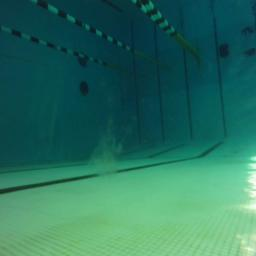Full: (244, 46, 256, 59), (218, 49, 231, 59)
